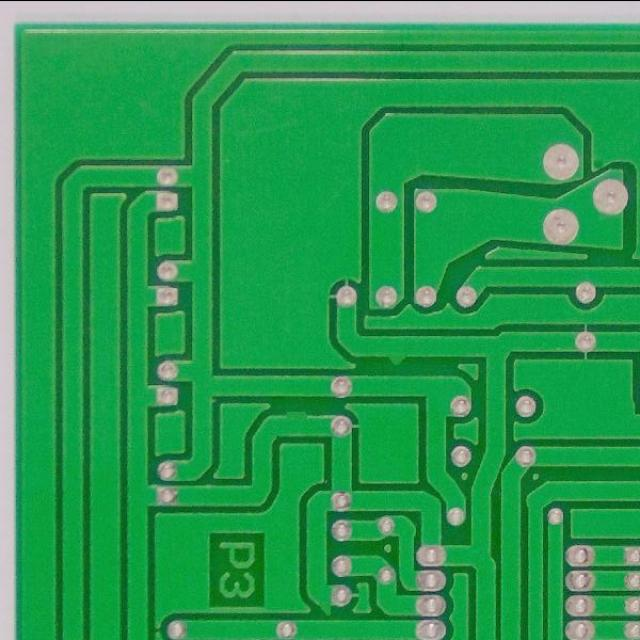spur: (380, 344, 410, 369), (275, 406, 314, 424), (313, 598, 336, 616)
